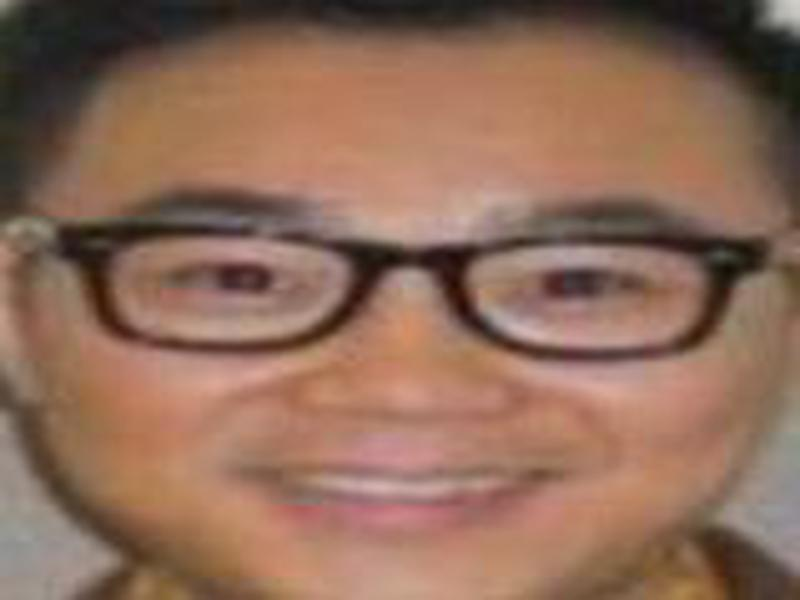without_mask: (29, 64, 787, 595)
